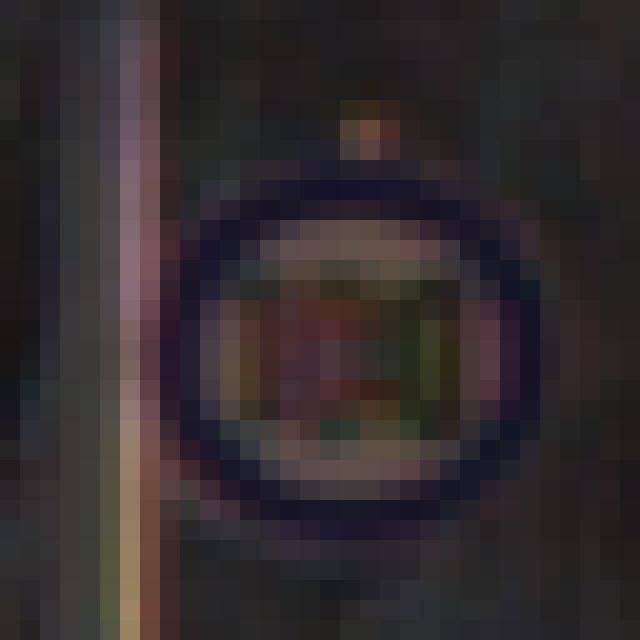SPEED LIMIT 100: (137, 176, 557, 534)
